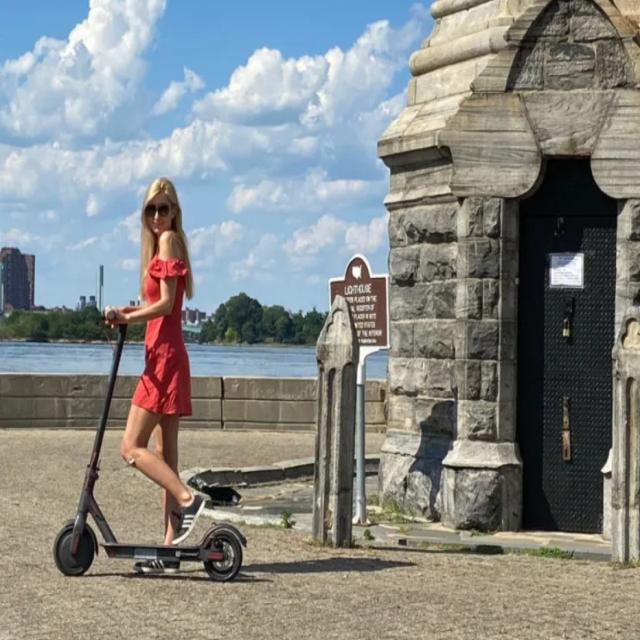non-helmet: (49, 166, 257, 589)
